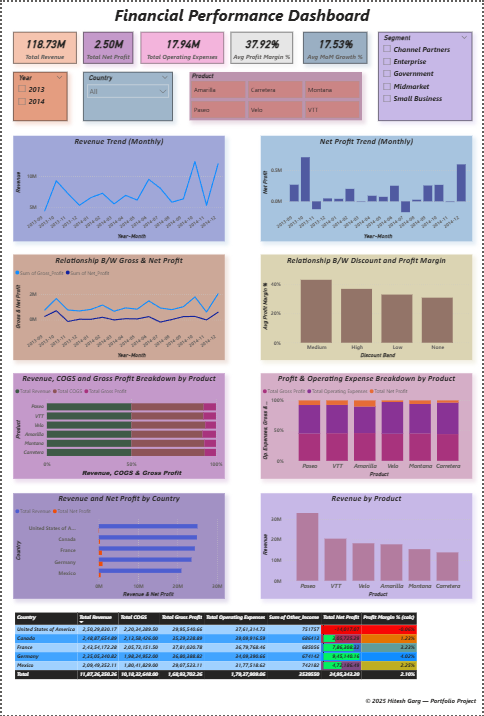

What the dashboard file says about the page in this screenshot:
{"tool":"powerbi","page":{"name":"Finance Dashboard","canvas":[1280,1900],"ordinal":0},"visuals":[{"type":"textbox","box":[0,0,1280.3,78.2],"z":0},{"type":"card","fields":{"Values":["Calendar.Total Revenue"]},"box":[28.6,78.6,168.6,84.3],"z":1000},{"type":"card","fields":{"Values":["Calendar.Total Net Profit"]},"box":[215.7,78.6,132.9,84.3],"z":2000},{"type":"card","fields":{"Values":["Calendar.Total Operating Expenses"]},"box":[368.6,78.6,221.4,84.3],"z":3000},{"type":"card","fields":{"Values":["Calendar.Avg Profit Margin %"]},"box":[611.4,78.6,165.7,84.3],"z":4000},{"type":"card","fields":{"Values":["Calendar.Avg Monthly Revenue Growth %"]},"box":[802.5,78.8,170,83.8],"z":5000},{"type":"slicer","fields":{"Values":["Calendar.Year"]},"box":[28.6,185.7,144.3,130],"z":6000},{"type":"slicer","fields":{"Values":["Fact_Finance.Segment"]},"box":[1004.3,80,250,237.1],"z":7000},{"type":"slicer","fields":{"Values":["Fact_Finance.Country"]},"box":[215.7,187.1,238.6,130],"z":8000},{"type":"advancedSlicerVisual","fields":{"Values":["Fact_Finance.Product"]},"box":[498.6,187.1,460,128.6],"z":9000},{"type":"lineChart","title":"Revenue Trend (Monthly)","fields":{"Category":["Calendar.Year-Month"],"Y":["Sum(Fact_Finance.Revenue)"]},"box":[28.8,355,563.8,281.2],"z":10000},{"type":"clusteredColumnChart","title":"Net Profit Trend (Monthly)","fields":{"Category":["Calendar.Year-Month"],"Y":["Sum(Fact_Finance.Net_Profit)"]},"box":[690,355,563.8,281.2],"z":11000},{"type":"lineChart","title":"Relationship B/W Gross & Net Profit","fields":{"Category":["Calendar.Year-Month"],"Y":["Sum(Fact_Finance.Gross_Profit)","Sum(Fact_Finance.Net_Profit)"]},"box":[28.8,673.8,563.8,281.2],"z":12000},{"type":"clusteredColumnChart","title":"Relationship B/W Discount and Profit Margin","fields":{"Category":["Fact_Finance.Discount_Band"],"Y":["Calendar.Avg Profit Margin %"]},"box":[690,673.8,563.8,281.2],"z":13000},{"type":"hundredPercentStackedColumnChart","title":"Profit & Operating Expense Breakdown by Product","fields":{"Category":["Fact_Finance.Product"],"Y":["Calendar.Total Gross Profit","Calendar.Total Operating Expenses","Calendar.Total Net Profit"]},"box":[690,991.2,563.8,281.2],"z":14000},{"type":"hundredPercentStackedBarChart","title":"Revenue, COGS and Gross Profit Breakdown by Product","fields":{"Category":["Fact_Finance.Product"],"Y":["Calendar.Total Revenue","Calendar.Total COGS","Calendar.Total Gross Profit"]},"box":[28.8,991.2,563.8,281.2],"z":15000},{"type":"clusteredBarChart","title":"Revenue and Net Profit by Country","fields":{"Category":["Fact_Finance.Country"],"Y":["Calendar.Total Revenue","Calendar.Total Net Profit"]},"box":[28.8,1311.2,563.8,281.2],"z":16000},{"type":"pivotTable","fields":{"Rows":["Fact_Finance.Country"],"Values":["Calendar.Total Revenue","Calendar.Total COGS","Calendar.Total Gross Profit","Calendar.Total Operating Expenses","Sum(Fact_Finance.Other_Income)","Calendar.Total Net Profit","Calendar.Profit Margin % (calc)"]},"box":[28.8,1623.8,1098.8,201.2],"z":17000},{"type":"clusteredColumnChart","title":"Revenue by Product","fields":{"Category":["Fact_Finance.Product"],"Y":["Calendar.Total Revenue"]},"box":[690,1311.2,563.8,281.2],"z":18000},{"type":"textbox","box":[963.3,1846.7,316.7,53.3],"z":18001}]}

Visuals, with their boxes in screenshot pixels (x1, y1, x2, y2), scaled from the page's 1280x1900 canvas onto the 484x716 screenshot:
textbox: {"x1": 0, "y1": 0, "x2": 483, "y2": 29}
card - Calendar.Total Revenue: {"x1": 11, "y1": 30, "x2": 75, "y2": 61}
card - Calendar.Total Net Profit: {"x1": 82, "y1": 30, "x2": 132, "y2": 61}
card - Calendar.Total Operating Expenses: {"x1": 139, "y1": 30, "x2": 223, "y2": 61}
card - Calendar.Avg Profit Margin %: {"x1": 231, "y1": 30, "x2": 294, "y2": 61}
card - Calendar.Avg Monthly Revenue Growth %: {"x1": 303, "y1": 30, "x2": 368, "y2": 61}
slicer - Calendar.Year: {"x1": 11, "y1": 70, "x2": 65, "y2": 119}
slicer - Fact_Finance.Segment: {"x1": 380, "y1": 30, "x2": 474, "y2": 119}
slicer - Fact_Finance.Country: {"x1": 82, "y1": 71, "x2": 172, "y2": 119}
advancedSlicerVisual - Fact_Finance.Product: {"x1": 189, "y1": 71, "x2": 362, "y2": 119}
"Revenue Trend (Monthly)" lineChart: {"x1": 11, "y1": 134, "x2": 224, "y2": 240}
"Net Profit Trend (Monthly)" clusteredColumnChart: {"x1": 261, "y1": 134, "x2": 474, "y2": 240}
"Relationship B/W Gross & Net Profit" lineChart: {"x1": 11, "y1": 254, "x2": 224, "y2": 360}
"Relationship B/W Discount and Profit Margin" clusteredColumnChart: {"x1": 261, "y1": 254, "x2": 474, "y2": 360}
"Profit & Operating Expense Breakdown by Product" hundredPercentStackedColumnChart: {"x1": 261, "y1": 374, "x2": 474, "y2": 479}
"Revenue, COGS and Gross Profit Breakdown by Product" hundredPercentStackedBarChart: {"x1": 11, "y1": 374, "x2": 224, "y2": 479}
"Revenue and Net Profit by Country" clusteredBarChart: {"x1": 11, "y1": 494, "x2": 224, "y2": 600}
pivotTable - Fact_Finance.Country x Calendar.Total Revenue: {"x1": 11, "y1": 612, "x2": 426, "y2": 688}
"Revenue by Product" clusteredColumnChart: {"x1": 261, "y1": 494, "x2": 474, "y2": 600}
textbox: {"x1": 364, "y1": 696, "x2": 483, "y2": 715}
